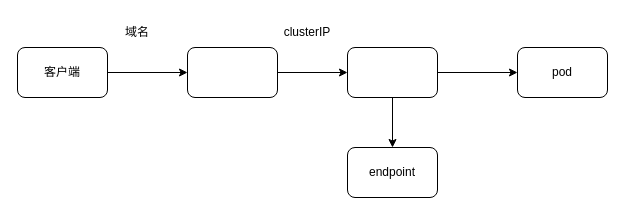
The diagram is 625 pixels wide and 215 high, and some of its shapes have lost their labels. Here are the shapes that lost their labels. From the top down, the centre of each, then its label:
At pixel 232 72: "k8s的DNS域名".
At pixel 392 72: "kube-proxy".
